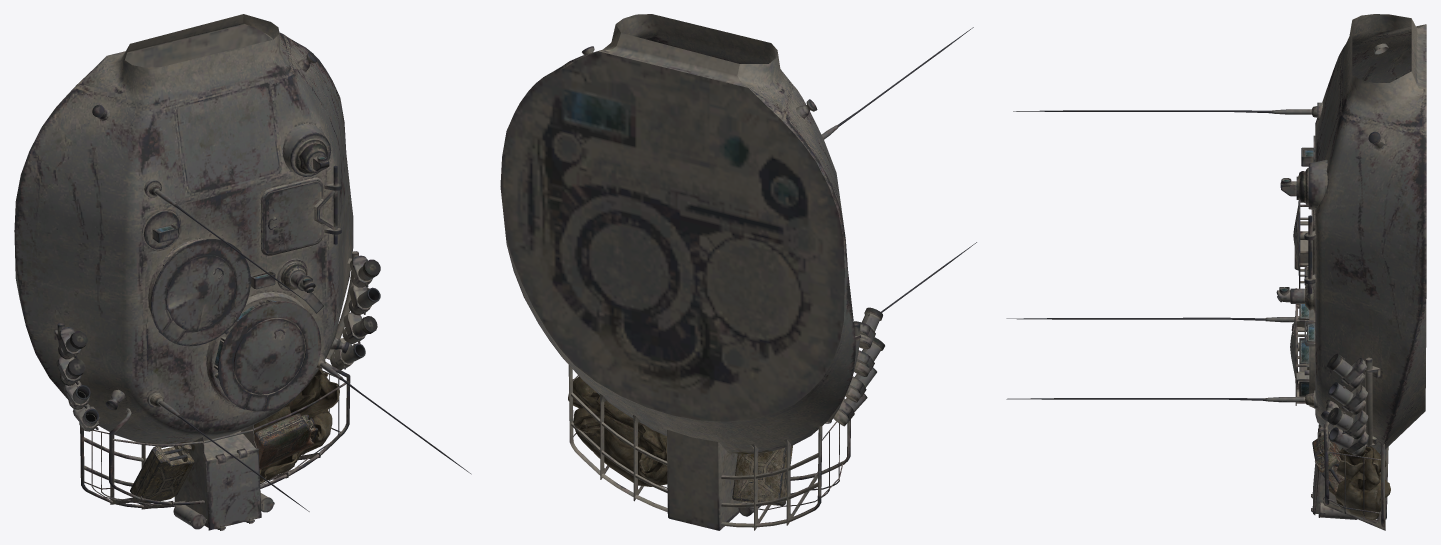
The model's file is Turret_01.glb.
The picture shows the model from 3 angles, left to right: view 1: azimuth 30°, elevation 25°; view 2: azimuth 150°, elevation 25°; view 3: azimuth 270°, elevation 25°; orthographic projection. The views are drawn at different scales.
Parts seen in each view (by area): view 1: set_0_group_0, set_0_group_1; view 2: set_0_group_0, set_0_group_1; view 3: set_0_group_0, set_0_group_1.
Part boxes in pixels (left/top/right/bottom): set_0_group_0: left=14, top=14, right=471, bottom=530; set_0_group_1: left=130, top=369, right=339, bottom=504; set_0_group_0: left=500, top=14, right=976, bottom=530; set_0_group_1: left=568, top=376, right=792, bottom=505; set_0_group_0: left=1006, top=14, right=1426, bottom=530; set_0_group_1: left=1312, top=434, right=1390, bottom=520.
Bounding box in the file's own units: 2.62 × 3.51 × 2.87.
2 materials, 2 textured.
